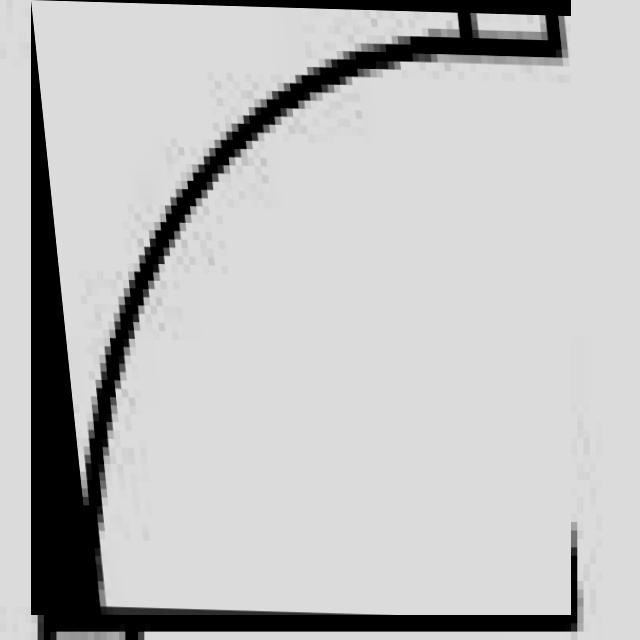door: (31, 0, 571, 615)
